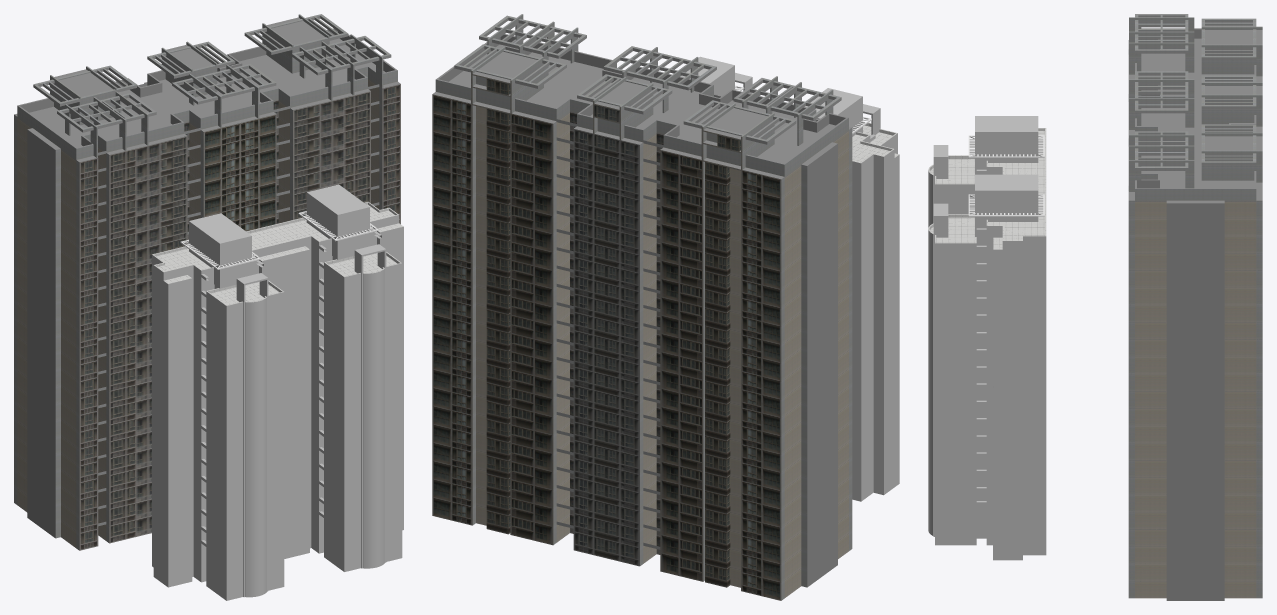
The model's file is side building01.FBX.
3 views of the same model, side by side, from view 1: azimuth 30°, elevation 25°; view 2: azimuth 150°, elevation 25°; view 3: azimuth 270°, elevation 25° (orthographic). The views are drawn at different scales.
Visible parts, largest first — view 1: 尚品国际089, lou1_4; view 2: 尚品国际089, lou1_4; view 3: 尚品国际089, lou1_4.
Boxes of the visible parts, x1,y1,x2,y2 form: 尚品国际089: (14,14,400,550); lou1_4: (152,184,403,600); 尚品国际089: (432,14,852,600); lou1_4: (680,56,899,501); 尚品国际089: (1128,14,1262,600); lou1_4: (928,116,1046,560).
Bounding box in the file's own units: 61.89 × 52.67 × 74.57.
